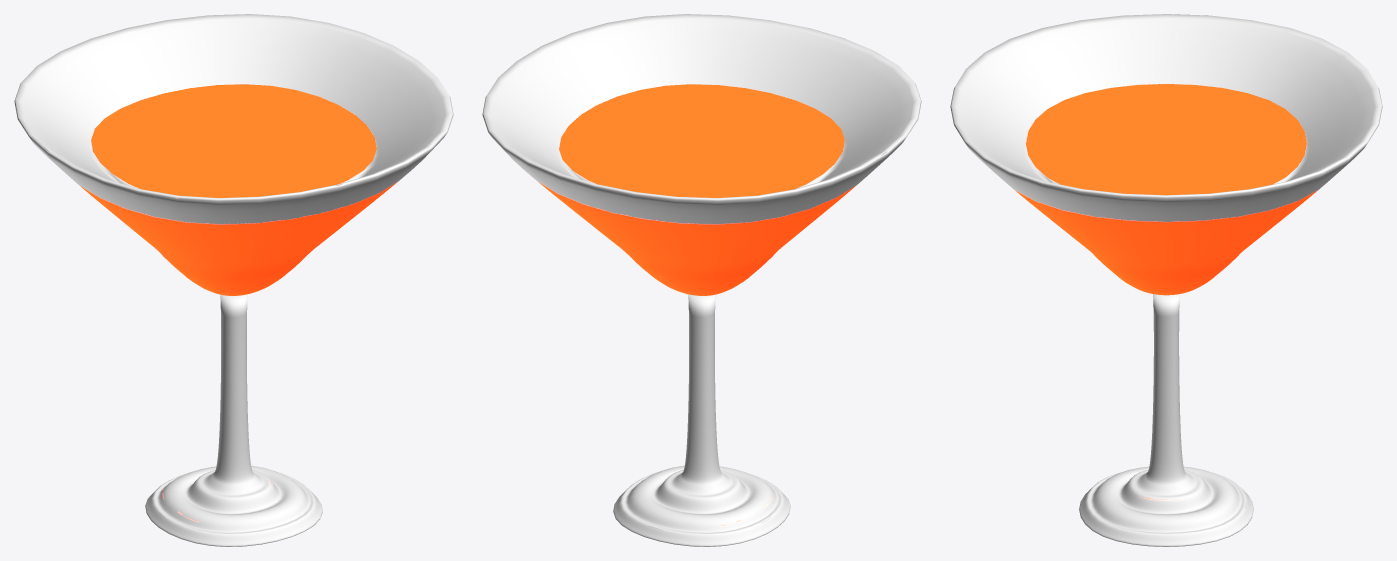
Rendered from drink2_scaled.fbx.
3 renders of one model, left to right at view 1: azimuth 30°, elevation 25°; view 2: azimuth 150°, elevation 25°; view 3: azimuth 270°, elevation 25°, orthographic.
Visible parts, largest first — view 1: drink2_Baked.003; view 2: drink2_Baked.003; view 3: drink2_Baked.003.
Part boxes in pixels (<box>): drink2_Baked.003: <box>14,14,453,546</box>; drink2_Baked.003: <box>482,14,921,546</box>; drink2_Baked.003: <box>950,14,1382,546</box>.
Size of the model in its own units: 125 by 130 by 125.
1 material, 1 textured.
